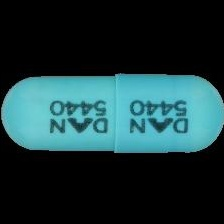64725-5440: (0, 0, 224, 224)
